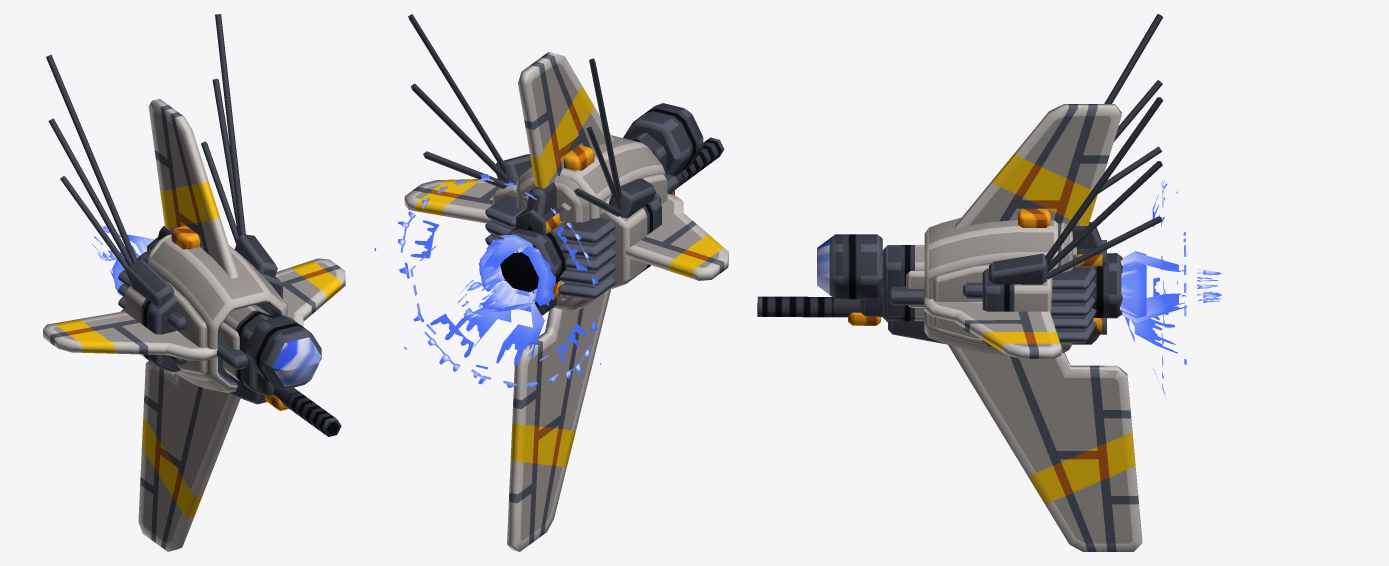
The model's file is StaticMech_Drone.FBX.
The picture shows the model from 3 angles, left to right: view 1: azimuth 30°, elevation 25°; view 2: azimuth 150°, elevation 25°; view 3: azimuth 270°, elevation 25°; orthographic projection. The views are drawn at different scales.
Parts seen in each view (by area): view 1: Object003, Box004, Object008, DRIVEFLARE01; view 2: Object003, Box004, DRIVEFLARE01, Object008; view 3: Object003, Box004, DRIVEFLARE01, Object008.
Boxes of the visible parts, bbox=[...] form: Object003: bbox=[43, 98, 345, 551]; Box004: bbox=[46, 14, 287, 404]; Object008: bbox=[246, 315, 321, 411]; DRIVEFLARE01: bbox=[92, 226, 154, 296]; Object003: bbox=[404, 52, 728, 551]; Box004: bbox=[408, 14, 678, 310]; DRIVEFLARE01: bbox=[374, 173, 601, 387]; Object008: bbox=[623, 103, 703, 194]; Object003: bbox=[757, 104, 1142, 551]; Box004: bbox=[888, 14, 1163, 355]; DRIVEFLARE01: bbox=[1119, 180, 1221, 398]; Object008: bbox=[817, 234, 882, 325].
Bounding box in the file's own units: 7.26 × 11.83 × 13.39.
